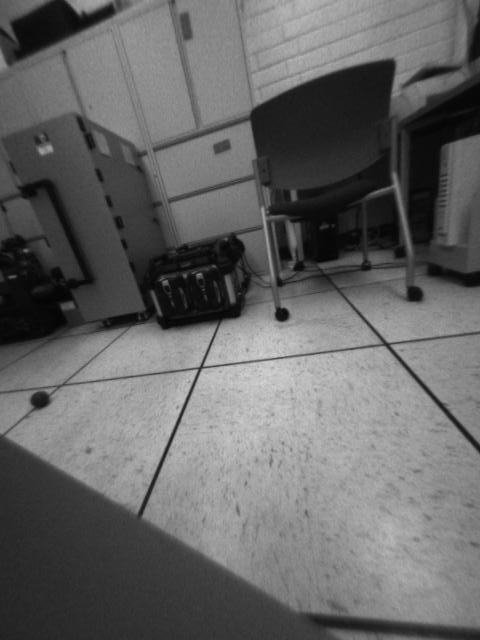dogtoy: (24, 380, 59, 413)
